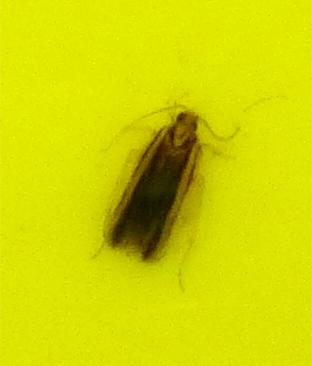Coleoptera: (100, 100, 212, 266)
